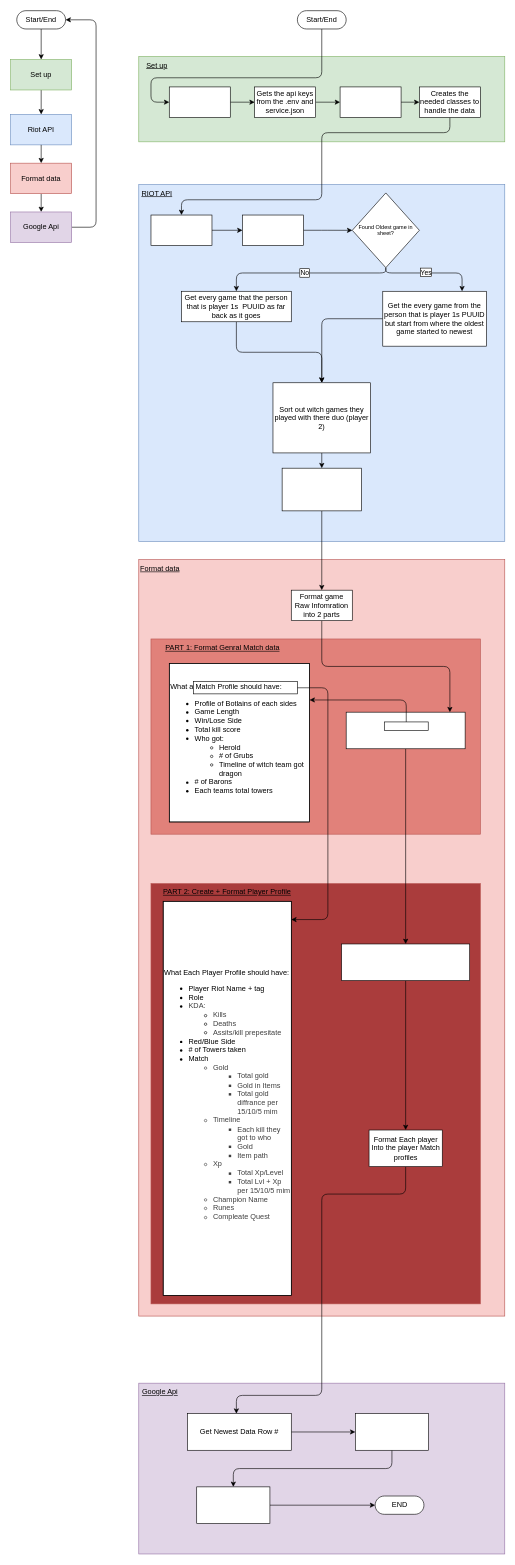
Image size: 515x1565. Some labels were removed from this diagram. Here are the shapes that lost their labels. From the top down, the box of each, then its label:
(169, 86, 230, 117): Gets the Riot Ids of the duo
(339, 86, 401, 117): Get General Settings of the program
(150, 214, 212, 246): Getting the PUUID for the duo
(242, 214, 303, 246): Get the newest game in the spreedsheet
(282, 468, 361, 511): Extract each game raw information out
(346, 712, 465, 749): Create a Match Profile for each match
(341, 943, 470, 981): Create Player Profiles for each player
(355, 1413, 429, 1450): Convert Match Profile Into Google Sheet Row
(196, 1486, 270, 1523): Add In data Row into Google sheet
